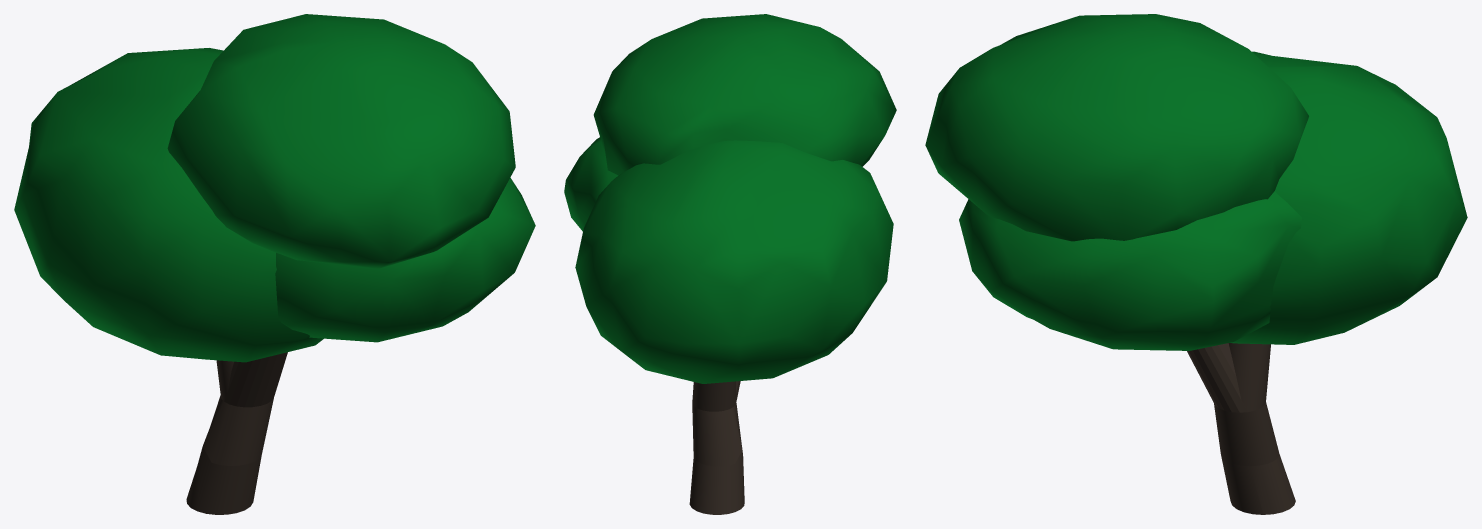
Rendered from Tree2.fbx.
3 renders of one model, left to right at view 1: azimuth 30°, elevation 25°; view 2: azimuth 150°, elevation 25°; view 3: azimuth 270°, elevation 25°, orthographic. The views are drawn at different scales.
Parts seen in each view (by area): view 1: Tree2; view 2: Tree2; view 3: Tree2.
Boxes of the visible parts, x1=… form: Tree2: x1=14, y1=14, x2=535, y2=514; Tree2: x1=564, y1=14, x2=896, y2=514; Tree2: x1=925, y1=14, x2=1467, y2=514.
Size of the model in its own units: 13.5 by 16.49 by 16.62.
